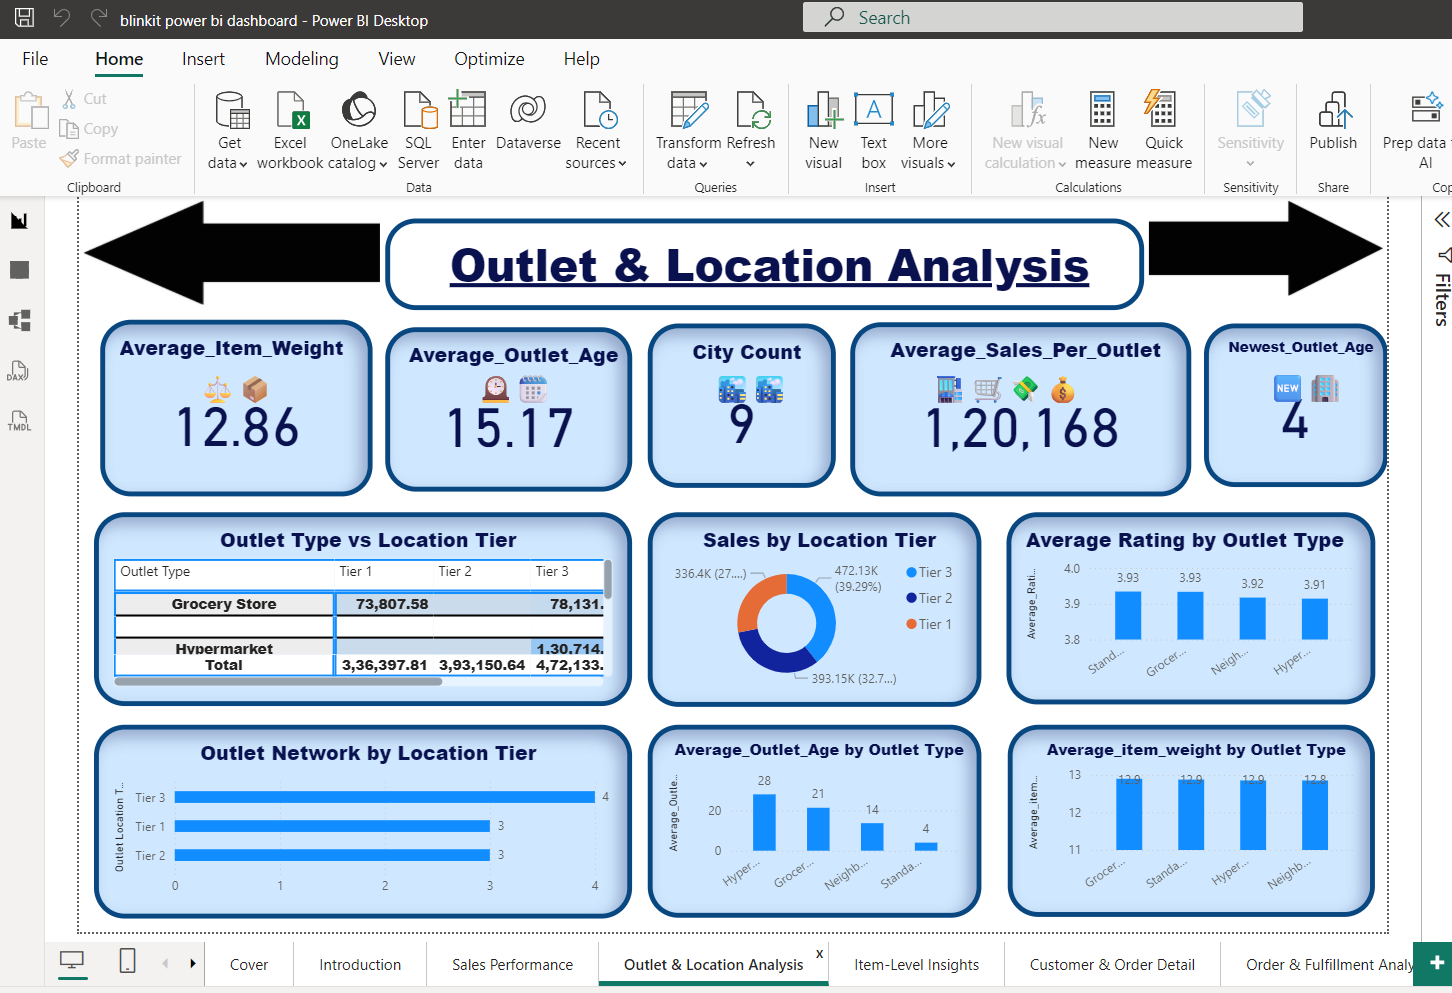

What the dashboard file says about the page in this screenshot:
{"tool":"powerbi","page":{"name":"Outlet & Location Analysis","canvas":[1280,720],"ordinal":3},"visuals":[{"type":"textbox","title":"Outlet & Location Analysis","box":[299.6,22,742.3,89.3],"z":0},{"type":"cardVisual","title":"City Count","fields":{"Data":["blinkit_data_master.City_count"]},"box":[556.7,124.5,184.3,160.7],"z":1000},{"type":"cardVisual","title":"Average_Outlet_Age","fields":{"Data":["blinkit_data_master.Average_Outlet_Age"]},"box":[300.1,128.3,241.6,160.7],"z":2000},{"type":"cardVisual","title":"Average_Sales_Per_Outlet","fields":{"Data":["blinkit_data_master.Average_Sales_per_Outlet"]},"box":[754,123.2,333.5,170.1],"z":3000},{"type":"cardVisual","title":"Average_Item_Weight","fields":{"Data":["blinkit_data_master.Average_item_weight"]},"box":[21.2,120.8,266.5,173.1],"z":4000},{"type":"cardVisual","title":"Newest_Outlet_Age","fields":{"Data":["blinkit_data_master.Newest_outlet_Age"]},"box":[1100.5,124.7,179.8,160.2],"z":5000},{"type":"donutChart","title":"Sales  by Location Tier","fields":{"Y":["blinkit_data_master.Total_Sales"],"Category":["blinkit_data_master.Outlet Location Type"]},"box":[556.7,308.9,326.3,190.5],"z":6000},{"type":"pivotTable","title":"Outlet Type vs Location Tier","fields":{"Rows":["blinkit_data_master.Outlet Type"],"Values":["Sum(blinkit_data_master.Sales)"],"Columns":["blinkit_data_master.Outlet Location Type"]},"box":[14.9,308.9,526.8,189.3],"z":7000},{"type":"clusteredBarChart","title":"Outlet Network by Location Tier","fields":{"Y":["Count(blinkit_data_master.Outlet Identifier)"],"Category":["blinkit_data_master.Outlet Location Type"]},"box":[14.9,516.8,526.8,189.3],"z":8000},{"type":"clusteredColumnChart","title":"Average Rating by Outlet Type","fields":{"Y":["blinkit_data_master.Average_Rating"],"Category":["blinkit_data_master.Outlet Type"]},"box":[907.3,309.4,360.7,188.3],"z":9000},{"type":"clusteredColumnChart","fields":{"Y":["blinkit_data_master.Average_Outlet_Age"],"Category":["blinkit_data_master.Outlet Type"]},"box":[557,517,326,189],"z":10000},{"type":"clusteredColumnChart","fields":{"Y":["blinkit_data_master.Average_item_weight"],"Category":["blinkit_data_master.Outlet Type"]},"box":[908.6,517.3,359.5,188.3],"z":11000},{"type":"textbox","box":[20.8,165.1,266.6,123.5],"z":12000},{"type":"textbox","box":[310.6,165.1,231.1,119.8],"z":13000},{"type":"textbox","box":[573.5,165.1,167.5,95.4],"z":14000},{"type":"textbox","box":[761.8,165.1,291,129.6],"z":15000},{"type":"textbox","box":[1121.3,163.9,159,121.1],"z":16000},{"type":"image","box":[0,0,299.6,111.3],"z":16001},{"type":"image","box":[1041.9,0,238.5,102.7],"z":16002}]}

Visuals, with their boxes on the page's 1280x720 design canvas (x1, y1, x2, y2). These are canvas units, not pixel positions in the 1452x993 screenshot, which may show the page scaled, cropped or inside an application window:
"Outlet & Location Analysis" textbox: Rect(300, 22, 1042, 111)
"City Count" cardVisual: Rect(557, 124, 741, 285)
"Average_Outlet_Age" cardVisual: Rect(300, 128, 542, 289)
"Average_Sales_Per_Outlet" cardVisual: Rect(754, 123, 1088, 293)
"Average_Item_Weight" cardVisual: Rect(21, 121, 288, 294)
"Newest_Outlet_Age" cardVisual: Rect(1100, 125, 1280, 285)
"Sales  by Location Tier" donutChart: Rect(557, 309, 883, 499)
"Outlet Type vs Location Tier" pivotTable: Rect(15, 309, 542, 498)
"Outlet Network by Location Tier" clusteredBarChart: Rect(15, 517, 542, 706)
"Average Rating by Outlet Type" clusteredColumnChart: Rect(907, 309, 1268, 498)
clusteredColumnChart - blinkit_data_master.Average_Outlet_Age x blinkit_data_master.Outlet Type: Rect(557, 517, 883, 706)
clusteredColumnChart - blinkit_data_master.Average_item_weight x blinkit_data_master.Outlet Type: Rect(909, 517, 1268, 706)
textbox: Rect(21, 165, 287, 289)
textbox: Rect(311, 165, 542, 285)
textbox: Rect(574, 165, 741, 260)
textbox: Rect(762, 165, 1053, 295)
textbox: Rect(1121, 164, 1280, 285)
image: Rect(0, 0, 300, 111)
image: Rect(1042, 0, 1280, 103)
